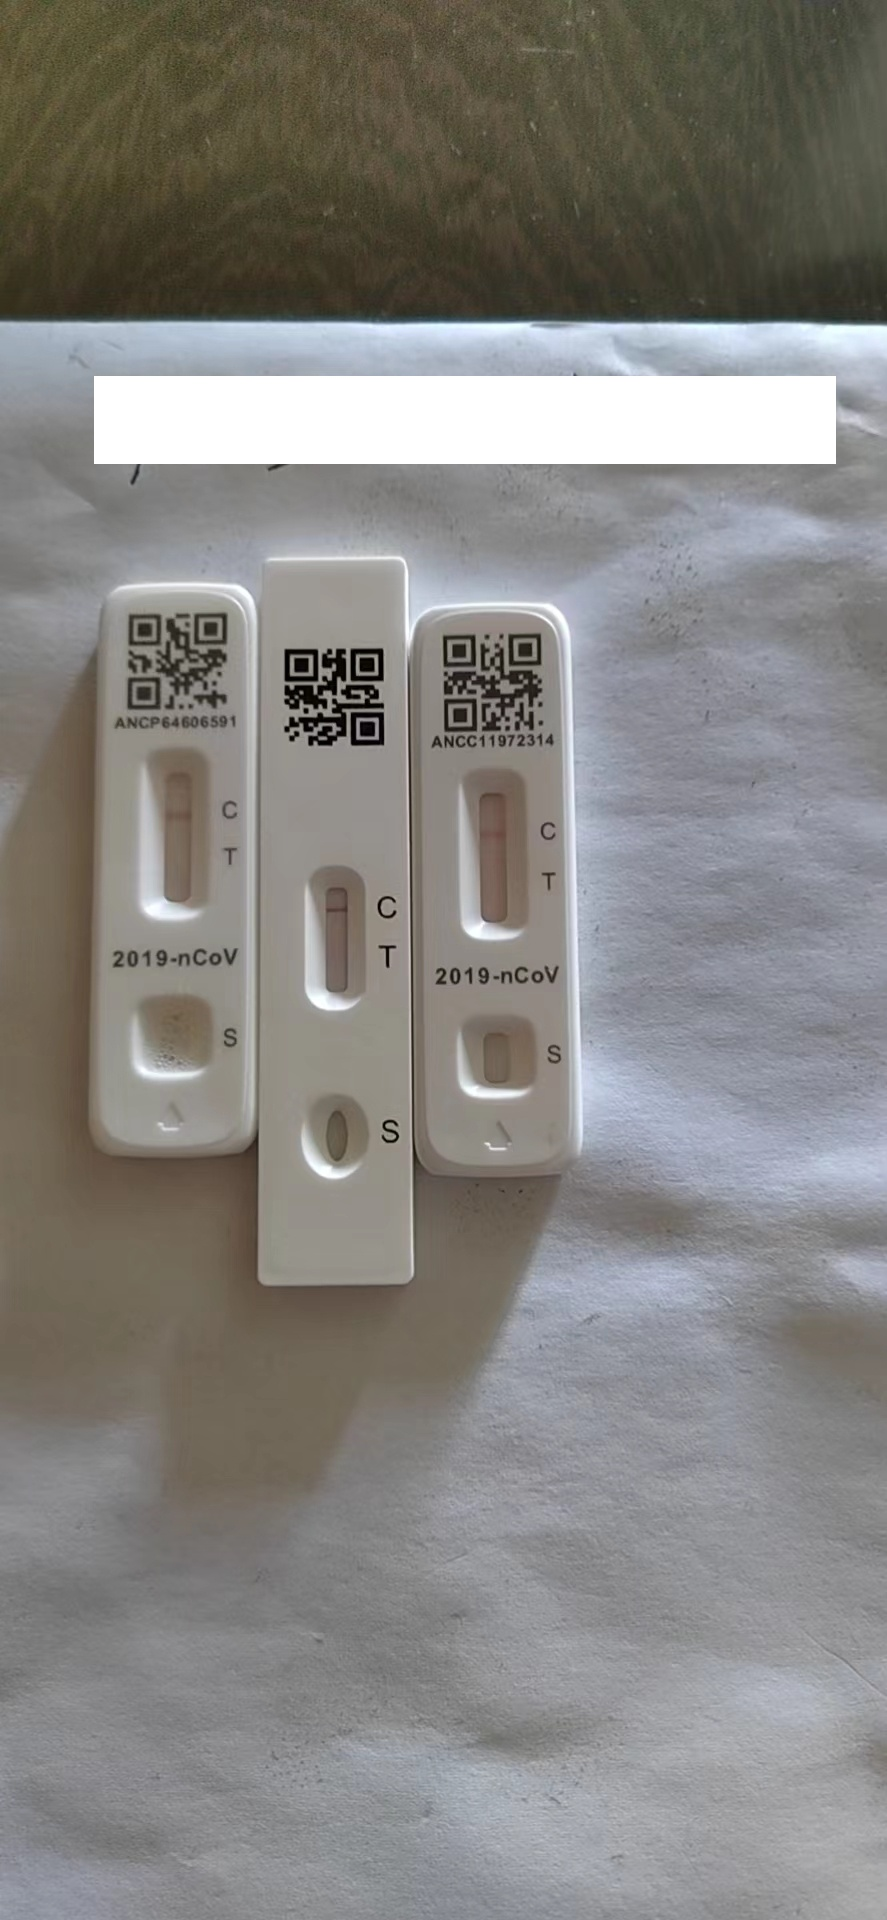negative: (145, 743, 212, 922), (459, 767, 528, 940), (304, 864, 368, 1014)
